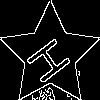H: (25, 30, 80, 87)
